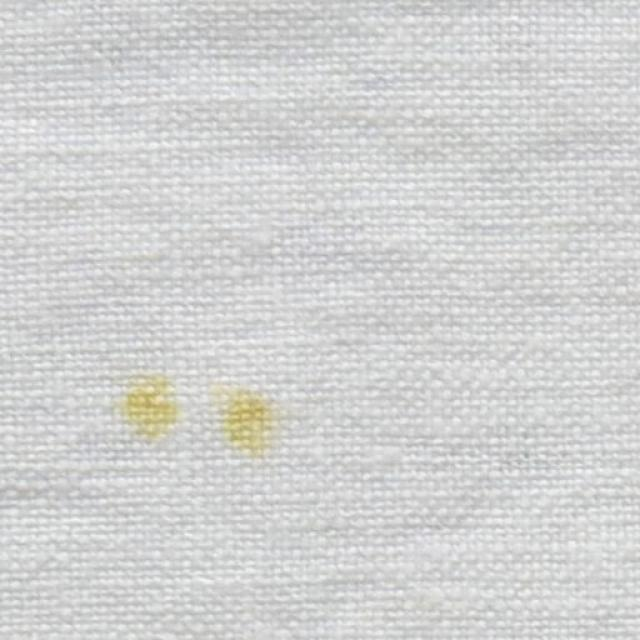Stain: (220, 386, 277, 454), (116, 377, 180, 436)
